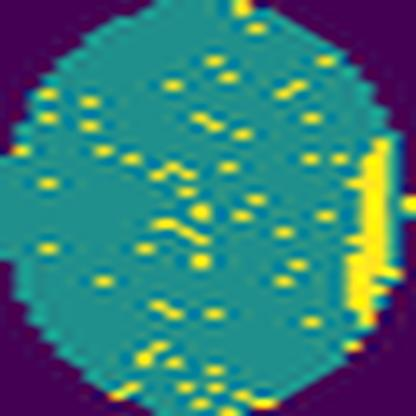Loc: (344, 139, 404, 329)
